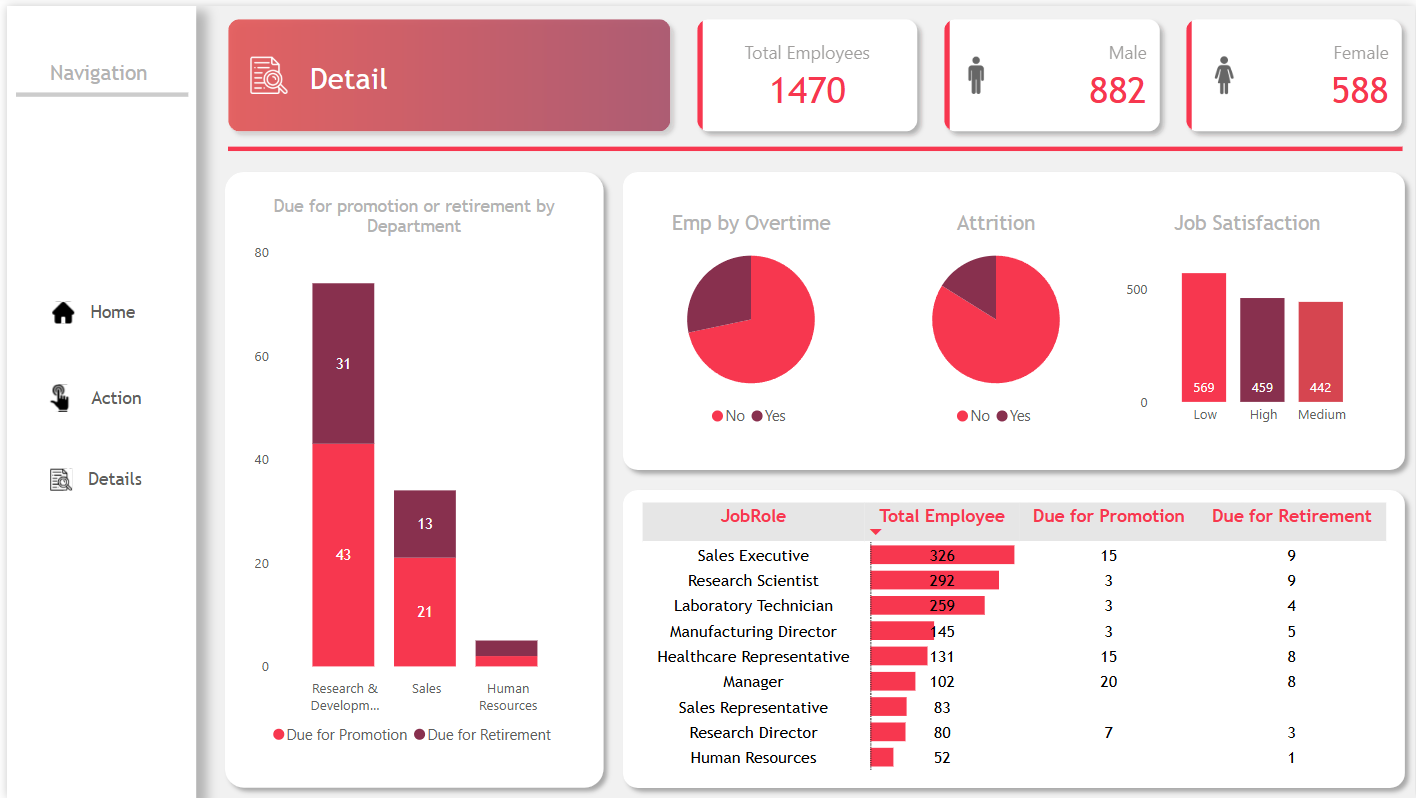

The page's visual inventory and layout, read from the dashboard file:
{"tool":"powerbi","page":{"name":"Details","canvas":[1280,720],"ordinal":2},"visuals":[{"type":"shape","box":[551.1,431.1,728.9,288.9],"z":0},{"type":"shape","box":[0,0,172.2,720],"z":1000},{"type":"shape","box":[551.1,142.2,728.9,288.9],"z":2000},{"type":"cardVisual","fields":{"Data":["HR Analytics Data.Total Employee"]},"box":[615.6,0,224.4,126.7],"z":3000},{"type":"cardVisual","fields":{"Data":["HR Analytics Data.No of Male"]},"box":[840,0,220,126.7],"z":4000},{"type":"cardVisual","fields":{"Data":["HR Analytics Data.No of Female"]},"box":[1060,0,220,126.7],"z":5000},{"type":"textbox","box":[0,44.4,172.2,37.8],"z":6000},{"type":"shape","box":[7.8,0,156.7,161.1],"z":7000},{"type":"shape","box":[188.9,142.2,362.2,577.8],"z":8000},{"type":"cardVisual","fields":{"Data":["HR Analytics Data.Detial Heading"]},"box":[188.9,0,426.7,126.7],"z":9000},{"type":"shape","box":[201.1,97.8,1067.8,63.3],"z":10000},{"type":"pieChart","title":"Emp by Overtime","fields":{"Category":["HR Analytics Data.OverTime"],"Y":["HR Analytics Data.Total Employee"]},"box":[571.8,185.5,209.1,206.4],"z":11000},{"type":"columnChart","title":"Due for promotion or retirement by Department","fields":{"Category":["HR Analytics Data.Department"],"Y":["CountNonNull(HR Analytics Data.Dur for Promotion or retirement)"],"Series":["HR Analytics Data.Dur for Promotion or retirement"]},"box":[220,172.2,300,508.9],"z":12000},{"type":"tableEx","fields":{"Values":["HR Analytics Data.JobRole","HR Analytics Data.Total Employee","HR Analytics Data.Due for Promotion","HR Analytics Data.Due for Retirement"]},"box":[572.2,446.7,688.9,256.7],"z":13000},{"type":"columnChart","title":"Job Satisfaction","fields":{"Y":["HR Analytics Data.Total Employee"],"Category":["HR Analytics Data.Job Satisfaction"]},"box":[1012.2,185.6,231.1,204.4],"z":17000},{"type":"pieChart","title":"Attrition","fields":{"Y":["HR Analytics Data.Total Employee"],"Category":["HR Analytics Data.Attrition"]},"box":[794.5,185.5,209.1,206.4],"z":18000},{"type":"actionButton","box":[8.2,403.6,145.5,53.6],"z":18001},{"type":"actionButton","box":[8.2,251.8,145.5,53.6],"z":18002},{"type":"actionButton","box":[8.2,330,145.5,53.6],"z":18003}]}

Visuals, with their boxes in screenshot pixels (x1, y1, x2, y2), scaled from the page's 1280x720 canvas onto the 1416x798 screenshot:
shape: pyautogui.locateOnScreen(610, 478, 1415, 797)
shape: pyautogui.locateOnScreen(0, 0, 190, 797)
shape: pyautogui.locateOnScreen(610, 158, 1415, 478)
cardVisual - HR Analytics Data.Total Employee: pyautogui.locateOnScreen(681, 0, 929, 140)
cardVisual - HR Analytics Data.No of Male: pyautogui.locateOnScreen(929, 0, 1173, 140)
cardVisual - HR Analytics Data.No of Female: pyautogui.locateOnScreen(1173, 0, 1415, 140)
textbox: pyautogui.locateOnScreen(0, 49, 190, 91)
shape: pyautogui.locateOnScreen(9, 0, 182, 179)
shape: pyautogui.locateOnScreen(209, 158, 610, 797)
cardVisual - HR Analytics Data.Detial Heading: pyautogui.locateOnScreen(209, 0, 681, 140)
shape: pyautogui.locateOnScreen(222, 108, 1404, 179)
"Emp by Overtime" pieChart: pyautogui.locateOnScreen(633, 206, 864, 434)
"Due for promotion or retirement by Department" columnChart: pyautogui.locateOnScreen(243, 191, 575, 755)
tableEx - HR Analytics Data.JobRole x HR Analytics Data.Total Employee: pyautogui.locateOnScreen(633, 495, 1395, 780)
"Job Satisfaction" columnChart: pyautogui.locateOnScreen(1120, 206, 1375, 432)
"Attrition" pieChart: pyautogui.locateOnScreen(879, 206, 1110, 434)
actionButton: pyautogui.locateOnScreen(9, 447, 170, 507)
actionButton: pyautogui.locateOnScreen(9, 279, 170, 338)
actionButton: pyautogui.locateOnScreen(9, 366, 170, 425)
